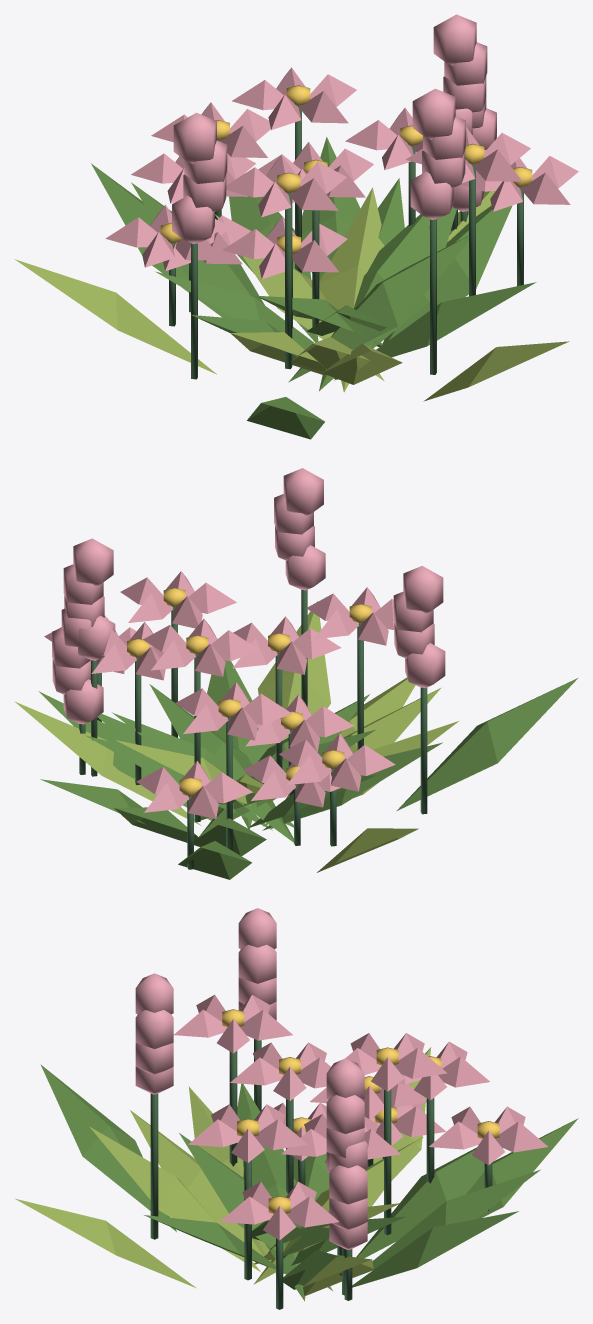
The model's file is bush_flower_pink.glb.
3 views of the same model, one above another, from view 1: azimuth 30°, elevation 25°; view 2: azimuth 150°, elevation 25°; view 3: azimuth 270°, elevation 25° (orthographic). The views are drawn at different scales.
Visible parts, largest first — view 1: bush_flower_pink; view 2: bush_flower_pink; view 3: bush_flower_pink.
Part boxes in pixels (x1=…): bush_flower_pink: x1=14, y1=14, x2=578, y2=439; bush_flower_pink: x1=14, y1=468, x2=577, y2=879; bush_flower_pink: x1=14, y1=908, x2=578, y2=1309.
Bounding box in the file's own units: 1.24 × 0.8131 × 1.34.
